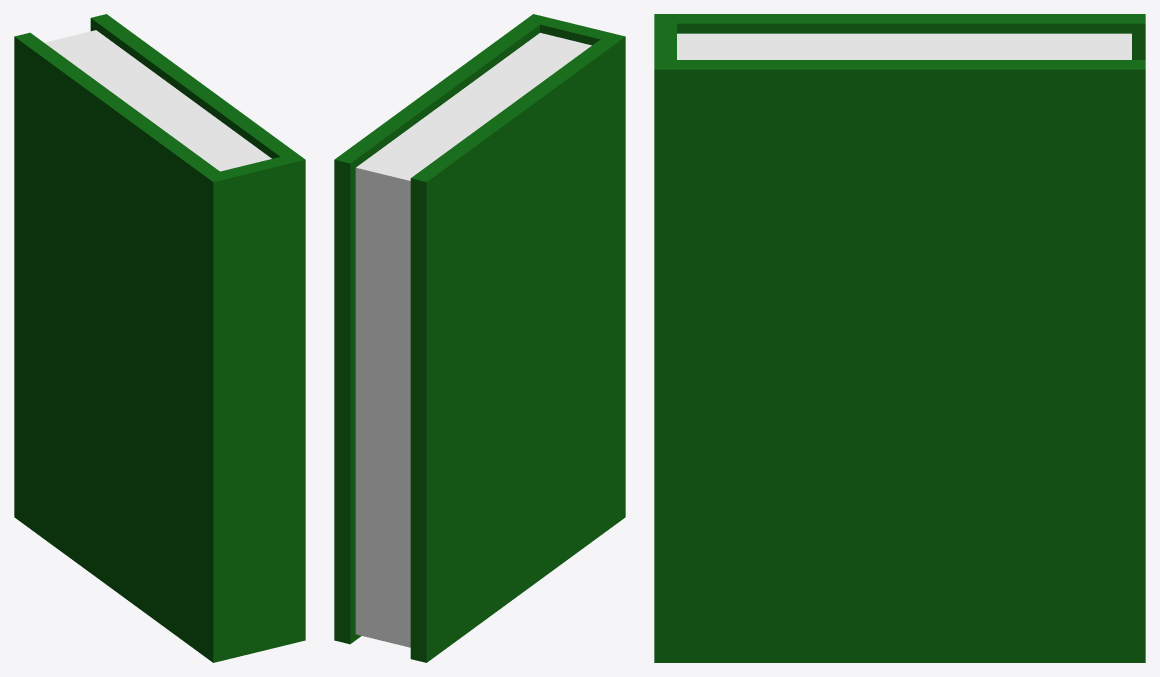
The model's file is book.fbx.
3 views of the same model, side by side, from view 1: azimuth 30°, elevation 25°; view 2: azimuth 150°, elevation 25°; view 3: azimuth 270°, elevation 25° (orthographic). The views are drawn at different scales.
Visible parts, largest first — view 1: Cube; view 2: Cube; view 3: Cube.
Part boxes in pixels (box(x1,y1,x2,y2)): Cube: box(14, 14, 305, 662); Cube: box(334, 14, 625, 662); Cube: box(654, 14, 1145, 662).
Size of the model in its own units: 139 by 690 by 518.
